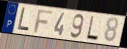4: (53, 12, 65, 37)
8: (103, 17, 121, 45)
9: (69, 13, 84, 40)
F: (33, 9, 54, 34)
L: (85, 15, 99, 42), (17, 7, 31, 33)
